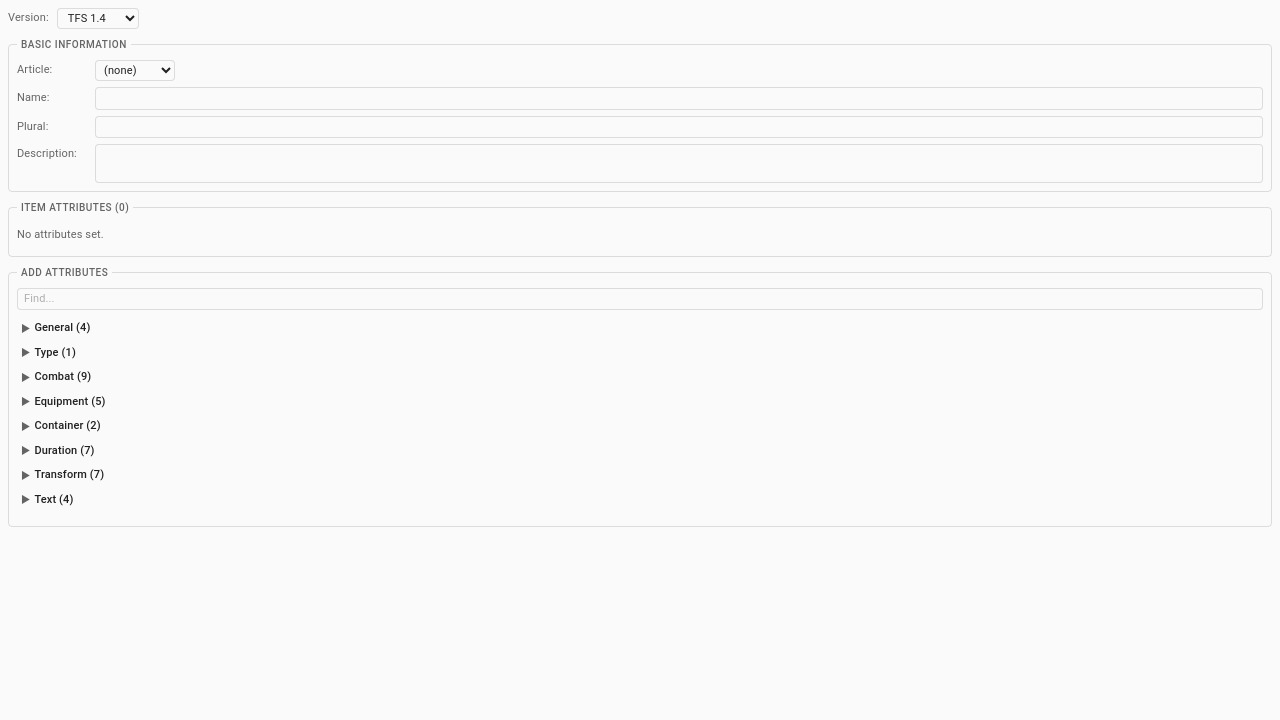
AttributesEditor › category browsing › expands category on click
This screenshot has width=1280, height=720.
Click the button with test id "category-" at x=54, y=328, box [17,318,1263,338]
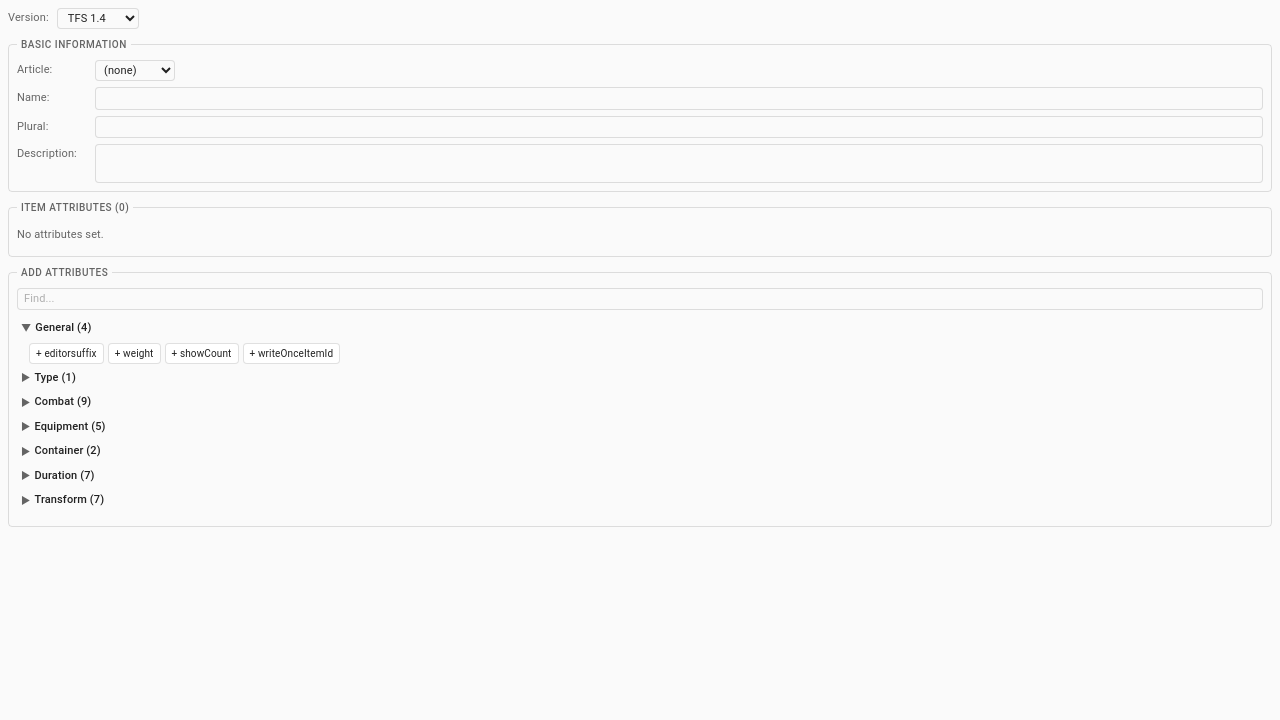
Expected: the button with test id "add-btn-" is shown, [29,342,104,364]
